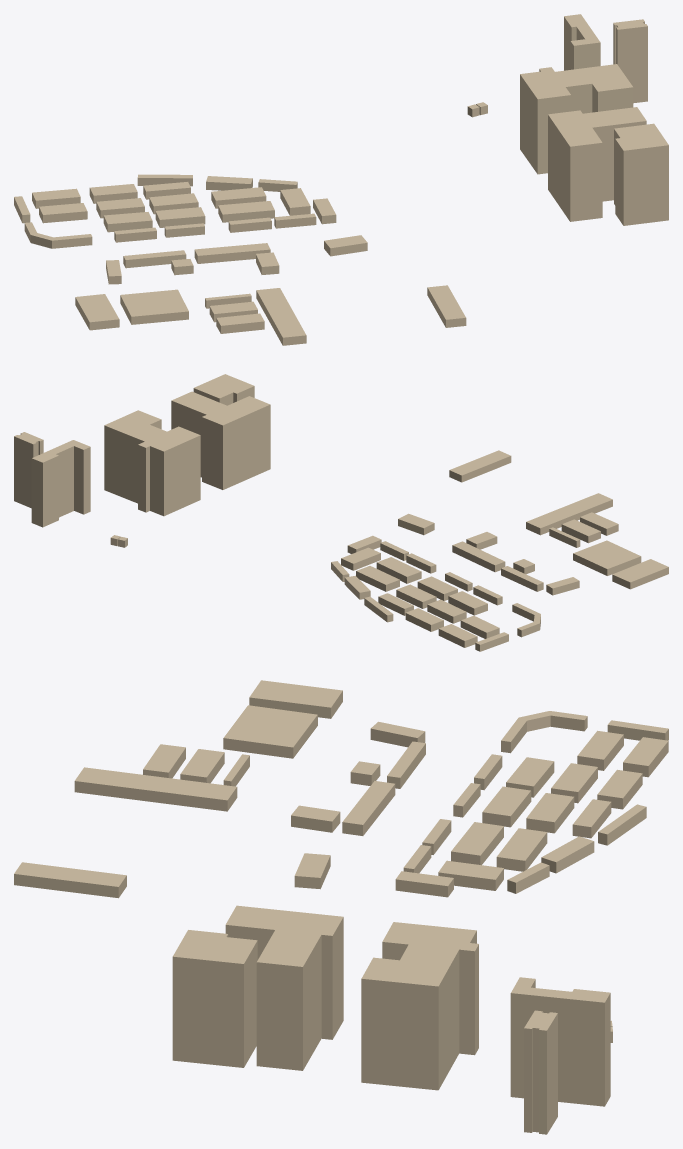
Rendered from -19_19-estimated-coarse.glb.
The picture shows the model from 3 angles, top to bottom: view 1: azimuth 30°, elevation 25°; view 2: azimuth 150°, elevation 25°; view 3: azimuth 270°, elevation 25°; orthographic projection. The views are drawn at different scales.
Size of the model in its own units: 1015 by 111 by 634.
